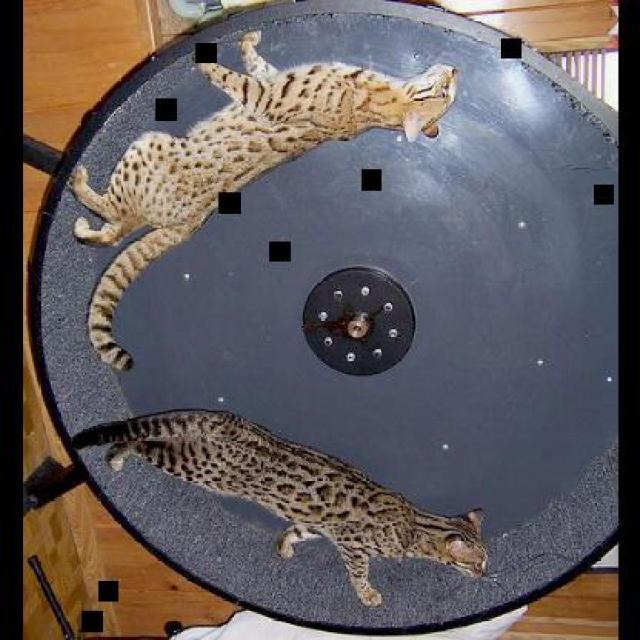unauthorized: (64, 28, 458, 370), (71, 408, 489, 608)
